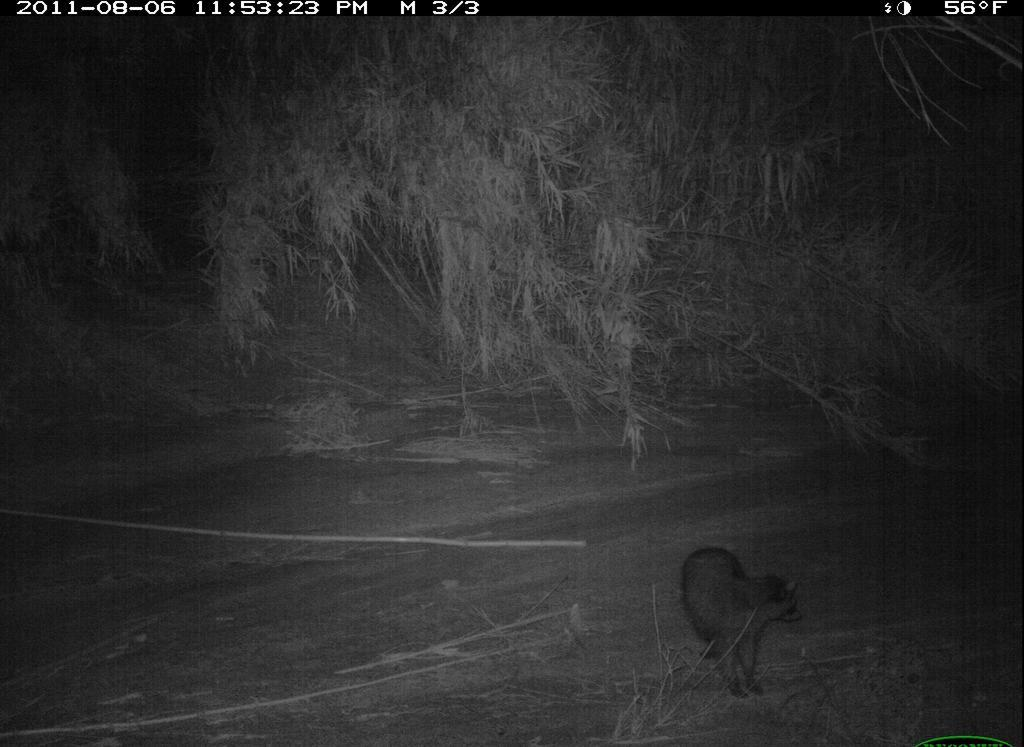raccoon: (679, 539, 809, 708)
